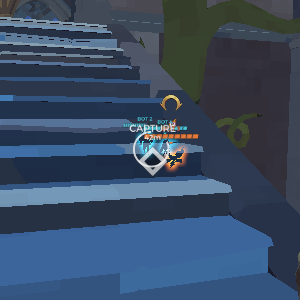model: (162, 146, 190, 175)
